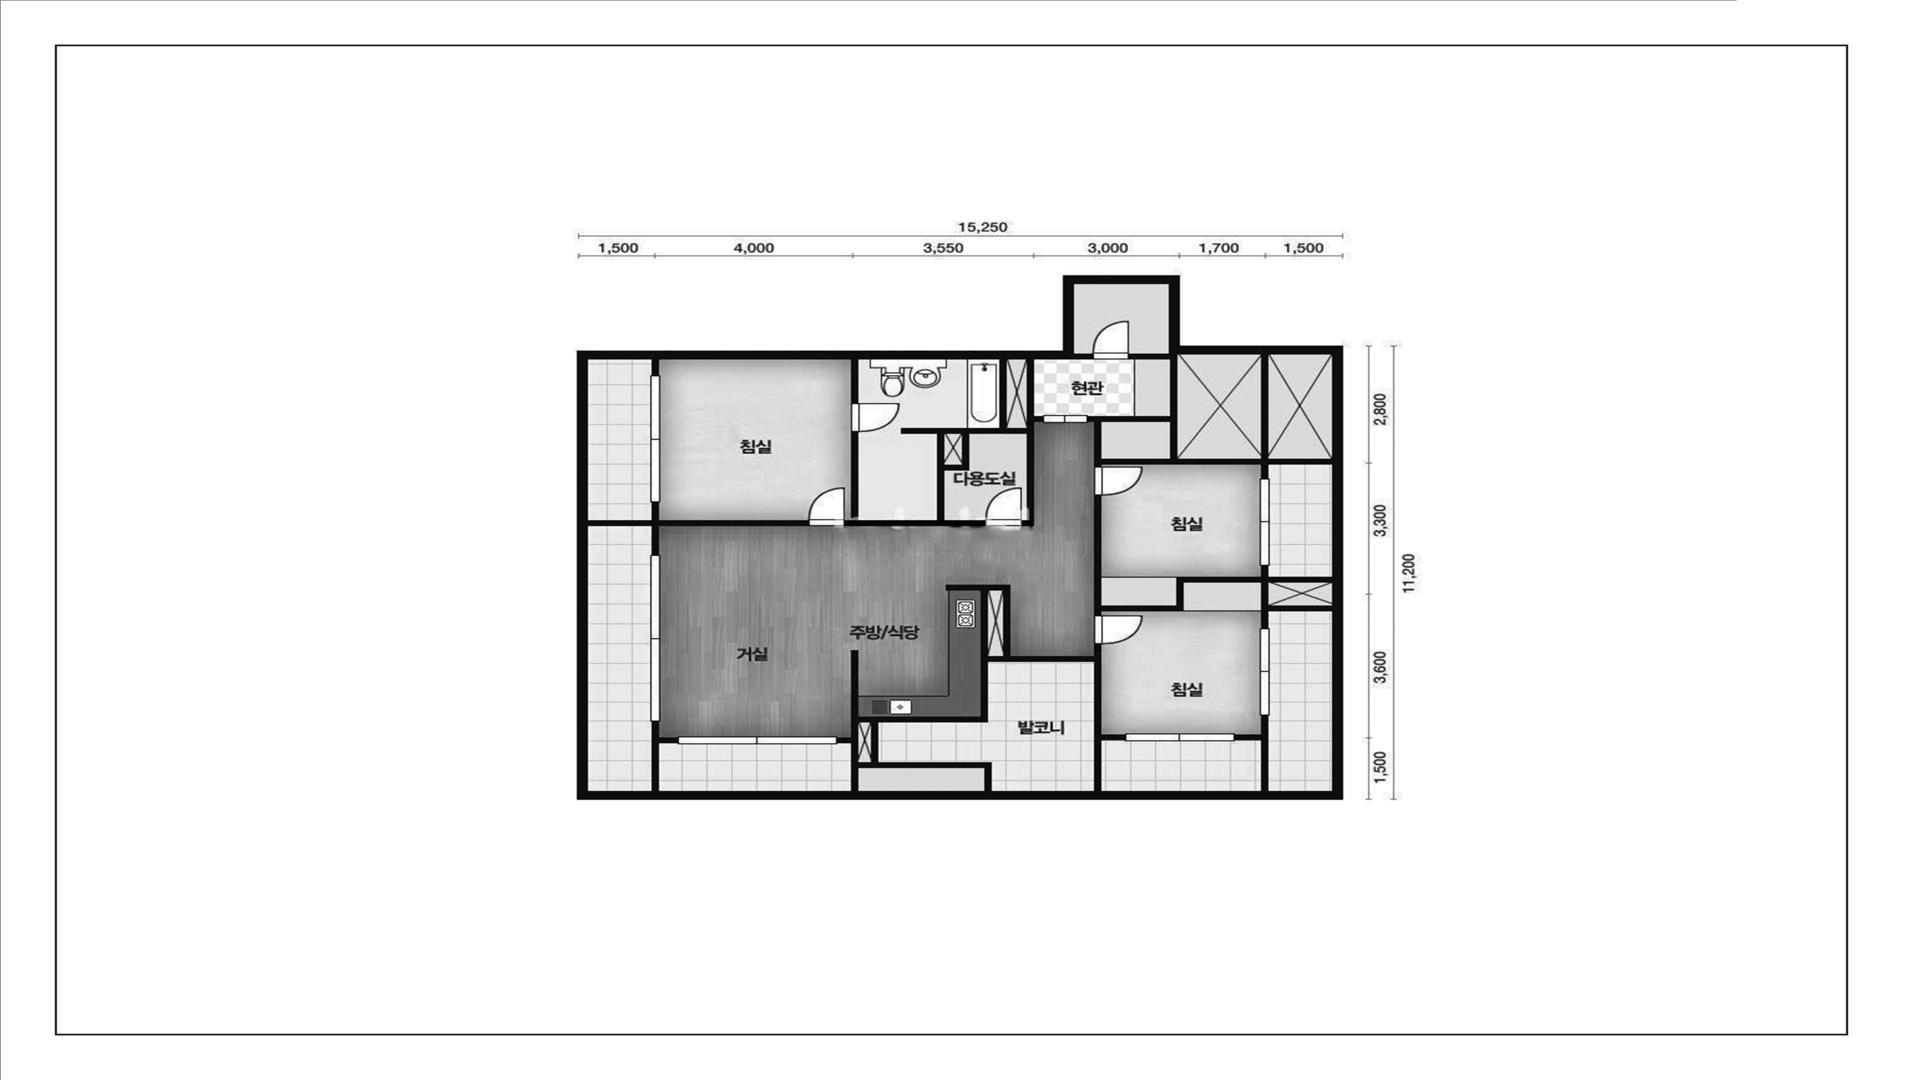door: (1092, 320, 1129, 360), (985, 487, 1022, 526), (808, 487, 845, 526), (1093, 616, 1143, 645), (1093, 465, 1143, 495), (851, 402, 901, 431), (1042, 415, 1087, 423)
wall: (576, 276, 1344, 800), (837, 584, 1124, 791), (1093, 495, 1332, 628), (1095, 355, 1332, 479), (845, 429, 1027, 526), (588, 502, 808, 555), (1088, 353, 1178, 459), (1022, 359, 1042, 526), (1236, 716, 1269, 790), (651, 723, 678, 791), (1000, 359, 1006, 427), (851, 359, 858, 402), (651, 359, 659, 376), (1075, 353, 1092, 360)
window: (650, 555, 661, 723), (649, 376, 661, 502), (678, 736, 837, 744), (1258, 628, 1270, 716), (1259, 479, 1270, 566), (1125, 733, 1236, 741)
